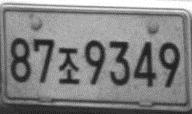3: (108, 39, 130, 86)
4: (132, 40, 158, 88)
7: (31, 37, 54, 84)
8: (9, 36, 32, 83)
9: (158, 40, 181, 89), (83, 38, 106, 85)
조: (57, 46, 81, 85)
